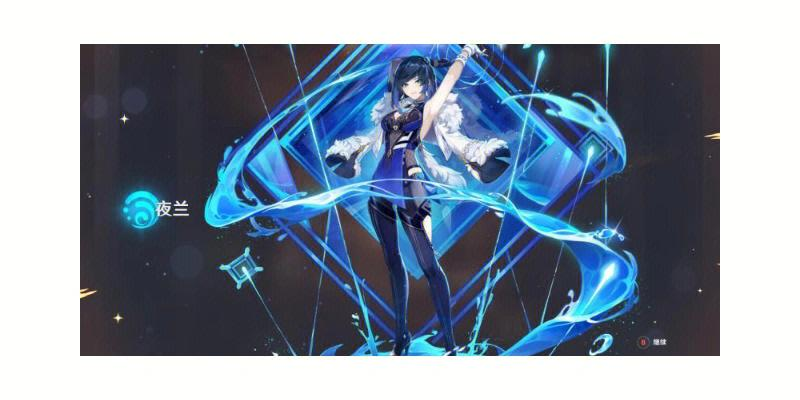夜兰: (363, 43, 489, 356)
